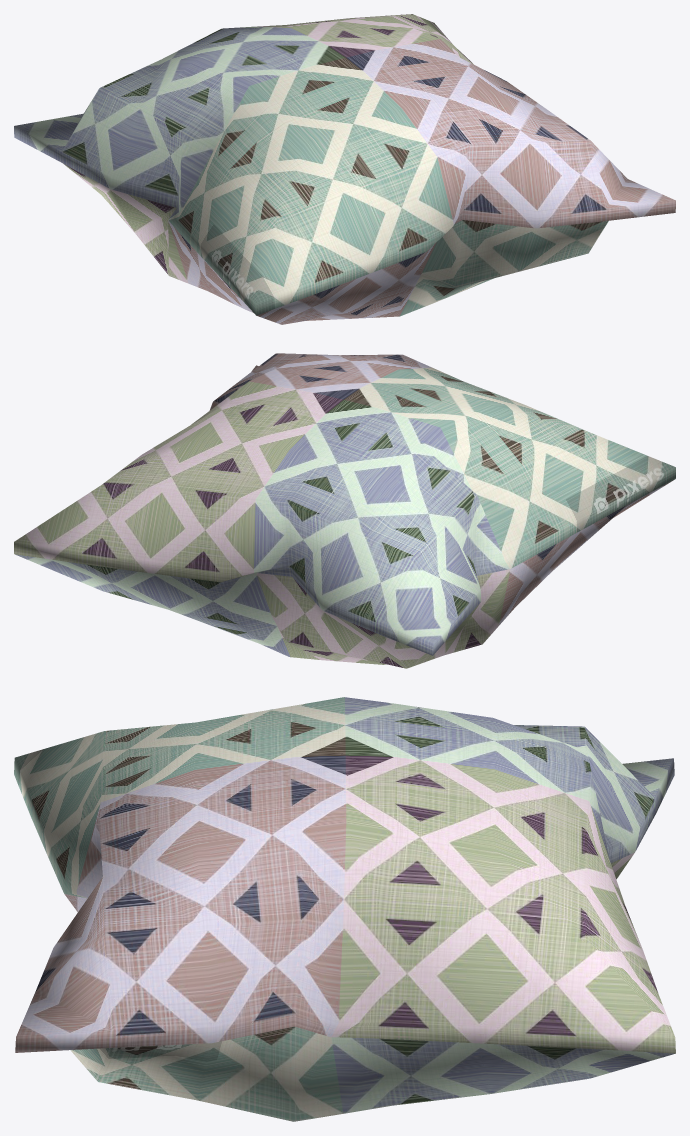
File: G_Pillow1.fbx
3 views of the same model, one above another, from view 1: azimuth 30°, elevation 25°; view 2: azimuth 150°, elevation 25°; view 3: azimuth 270°, elevation 25° (orthographic). The views are drawn at different scales.
Parts seen in each view (by area): view 1: Pillow1; view 2: Pillow1; view 3: Pillow1.
Boxes of the visible parts, x1=… form: Pillow1: x1=14, y1=14, x2=675, y2=324; Pillow1: x1=14, y1=353, x2=675, y2=668; Pillow1: x1=14, y1=697, x2=675, y2=1121.
Bounding box in the file's own units: 71.49 × 36 × 71.49.
